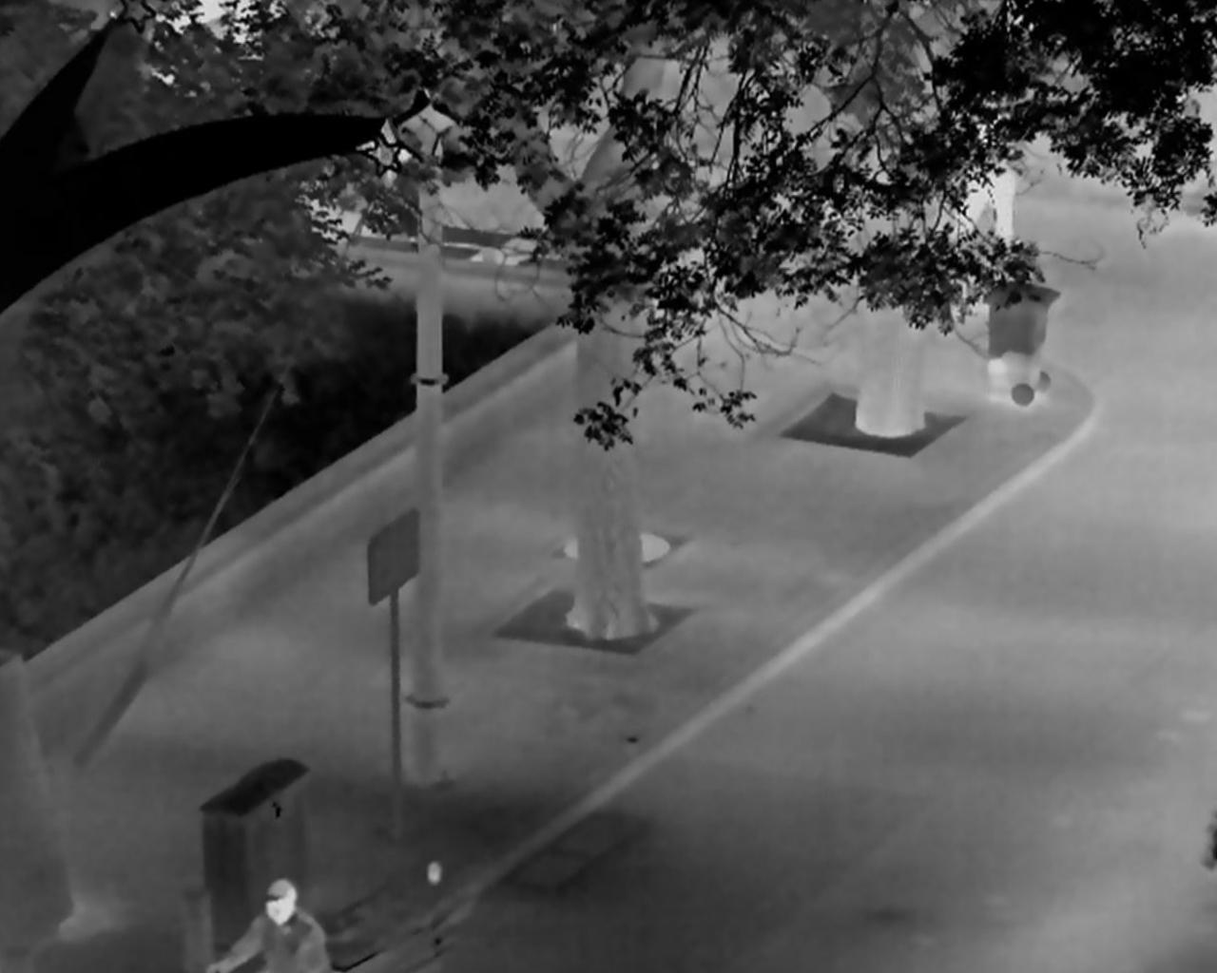person: (948, 76, 1024, 262), (207, 878, 333, 973)
